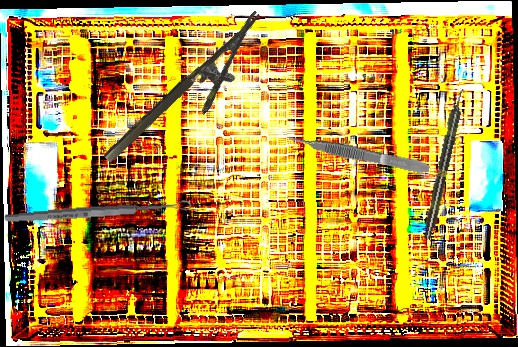Handpiece: (420, 87, 469, 241)
Needle Holder: (101, 10, 284, 184)
Surgical Spoon: (3, 199, 193, 225)
Tissue Forceps: (287, 129, 431, 178)
